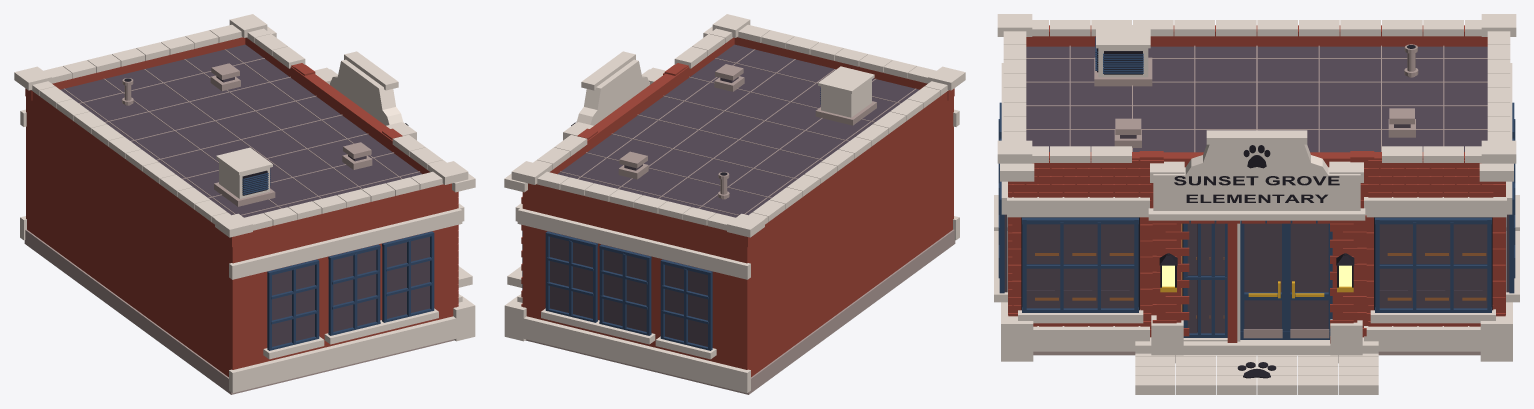
Rendered from bld.school-elementary.lod1.glb.
3 renders of one model, left to right at view 1: azimuth 30°, elevation 25°; view 2: azimuth 150°, elevation 25°; view 3: azimuth 270°, elevation 25°, orthographic. The views are drawn at different scales.
Visible parts, largest first — view 1: body, roof; view 2: body, roof; view 3: body, roof, door_L, door_R, object 6.
Part boxes in pixels (x1=…): body: x1=20, y1=26, x2=475, y2=394; roof: x1=14, y1=14, x2=468, y2=246; body: x1=504, y1=26, x2=959, y2=394; roof: x1=511, y1=14, x2=965, y2=246; body: x1=994, y1=25, x2=1519, y2=394; roof: x1=997, y1=14, x2=1516, y2=167; door_L: x1=1240, y1=220, x2=1288, y2=339; door_R: x1=1284, y1=220, x2=1332, y2=339; object 6: x1=1159, y1=253, x2=1354, y2=292.
Bounding box in the file's own units: 10.07 × 6.14 × 12.67.
